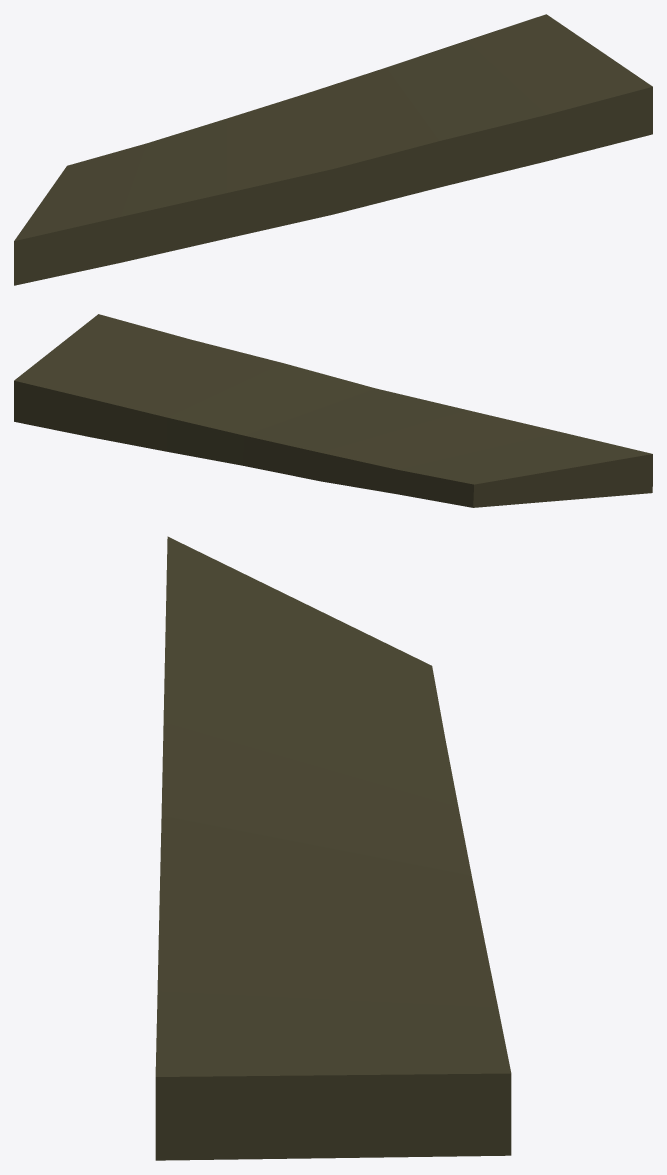
File: wrack-weed.glb
3 views of the same model, one above another, from view 1: azimuth 30°, elevation 25°; view 2: azimuth 150°, elevation 25°; view 3: azimuth 270°, elevation 25° (orthographic). The views are drawn at different scales.
Parts seen in each view (by area): view 1: wrack-weed; view 2: wrack-weed; view 3: wrack-weed.
Boxes of the visible parts, bbox=[...] form: wrack-weed: bbox=[14, 14, 652, 285]; wrack-weed: bbox=[14, 314, 652, 507]; wrack-weed: bbox=[155, 536, 511, 1160].
Size of the model in its own units: 0.4887 by 0.0379 by 0.1351.
